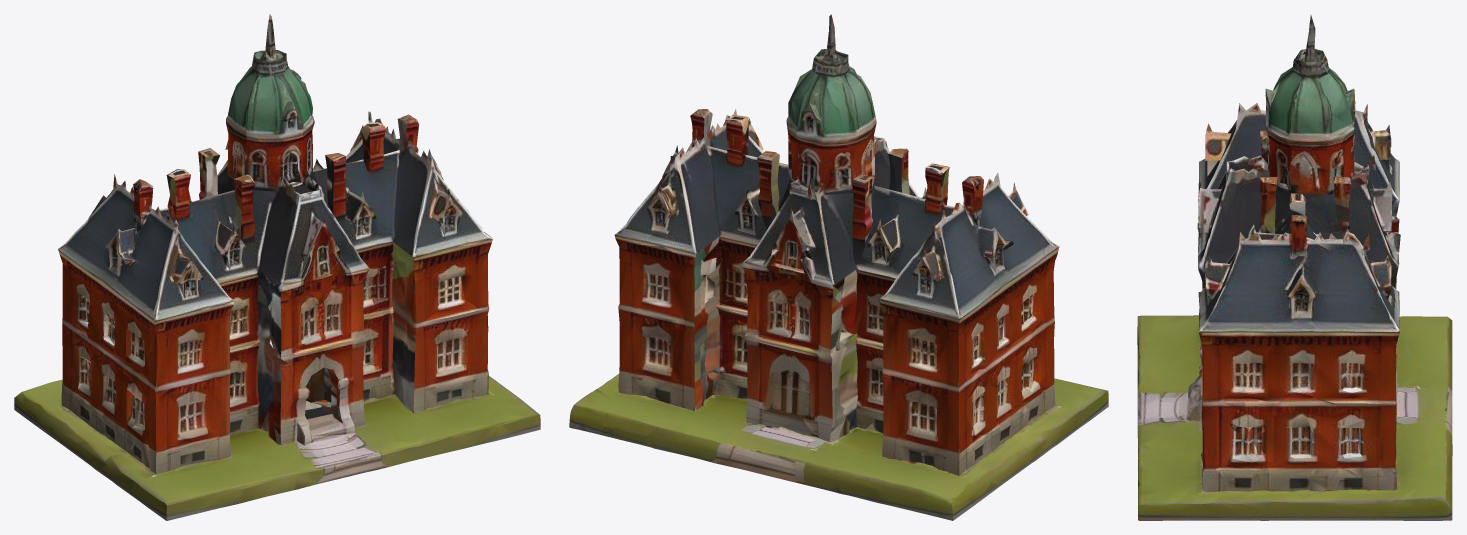
File: former-hokkaido-government-office.glb
3 renders of one model, left to right at view 1: azimuth 30°, elevation 25°; view 2: azimuth 150°, elevation 25°; view 3: azimuth 270°, elevation 25°, orthographic. The views are drawn at different scales.
Visible parts, largest first — view 1: logan-textured.obj; view 2: logan-textured.obj; view 3: logan-textured.obj.
Boxes of the visible parts, <box> form: logan-textured.obj: <box>14,14,540,520</box>; logan-textured.obj: <box>569,14,1108,520</box>; logan-textured.obj: <box>1137,14,1452,520</box>.
Bounding box in the file's own units: 0.9811 × 1 × 0.6916.
Materials: 1 (1 with a texture image).
